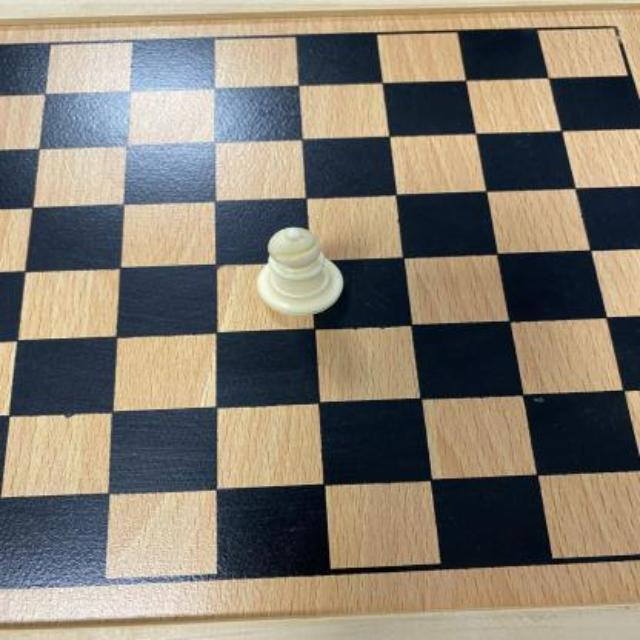white-bishop: (256, 225, 345, 317)
